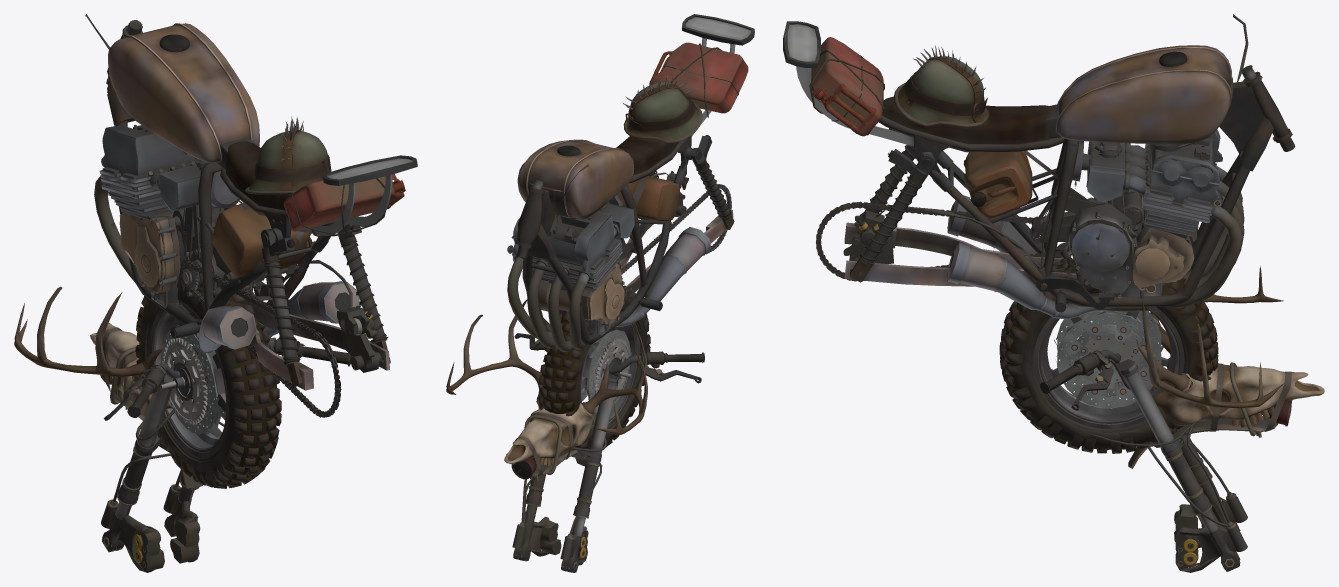
File: PostApo.fbx
3 renders of one model, left to right at view 1: azimuth 30°, elevation 25°; view 2: azimuth 150°, elevation 25°; view 3: azimuth 270°, elevation 25°, orthographic. The views are drawn at different scales.
Visible parts, largest first — view 1: post_Body, post_GasTank, post_WheelRear, post_Cargo, post_Muffler, post_RearSuspension, post_BrakeFront, post_Skull, post_Fork, post_FenderRear, post_WheelFront, post_Steering (+4 smaller); view 2: post_Body, post_Cargo, post_GasTank, post_Skull, post_Muffler, post_WheelRear, post_Fork, post_BrakeFront, post_FenderRear, post_Steering, post_RearSuspension, post_Seat (+3 smaller); view 3: post_Body, post_GasTank, post_Cargo, post_WheelRear, post_Muffler, post_Skull, post_Fork, post_WheelFront, post_RearSuspension, post_BrakeFront, post_Seat, post_DiscFront (+6 smaller).
Boxes of the visible parts, box(x1,y1,x2,y2) form: post_Body: box(85, 14, 389, 417); post_GasTank: box(108, 23, 259, 169); post_WheelRear: box(135, 273, 281, 488); post_Cargo: box(212, 116, 405, 276); post_Muffler: box(94, 176, 360, 353); post_RearSuspension: box(261, 212, 390, 387); post_BrakeFront: box(101, 484, 200, 572); post_Skull: box(14, 286, 265, 416); post_Fork: box(113, 387, 224, 525); post_FenderRear: box(291, 155, 417, 235); post_WheelFront: box(139, 288, 244, 481); post_Steering: box(104, 337, 352, 420); post_Body: box(507, 138, 733, 344); post_Cargo: box(617, 42, 748, 221); post_GasTank: box(517, 139, 634, 219); post_Skull: box(446, 299, 647, 479); post_Muffler: box(507, 227, 710, 351); post_WheelRear: box(538, 285, 650, 449); post_Fork: box(521, 384, 616, 536); post_BrakeFront: box(512, 517, 588, 572); post_FenderRear: box(678, 14, 754, 152); post_Steering: box(514, 318, 704, 386); post_RearSuspension: box(648, 135, 734, 229); post_Seat: box(616, 136, 678, 174); post_Body: box(816, 14, 1295, 312); post_GasTank: box(1046, 45, 1232, 144); post_Cargo: box(809, 37, 1032, 217); post_WheelRear: box(999, 256, 1218, 453); post_Muffler: box(947, 163, 1244, 319); post_Skull: box(1136, 266, 1324, 427); post_Fork: box(1090, 358, 1229, 537); post_WheelFront: box(1006, 270, 1211, 449); post_RearSuspension: box(849, 128, 952, 282); post_BrakeFront: box(1174, 492, 1247, 572); post_Seat: box(882, 96, 1055, 144); post_DiscFront: box(1054, 311, 1163, 408).
Bounding box in the file's own units: 6.96 × 15.02 × 14.12.
